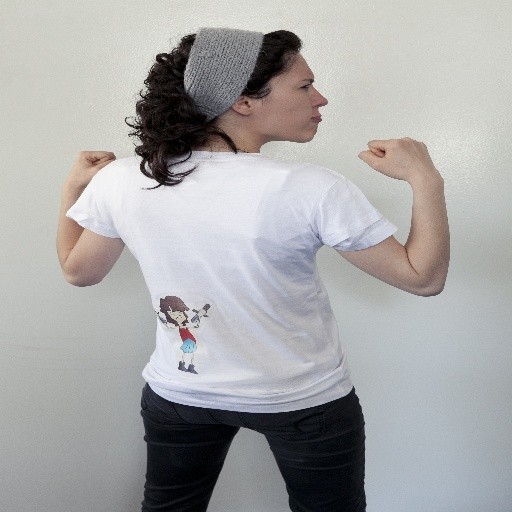hand: (356, 131, 443, 180), (60, 148, 116, 186)
